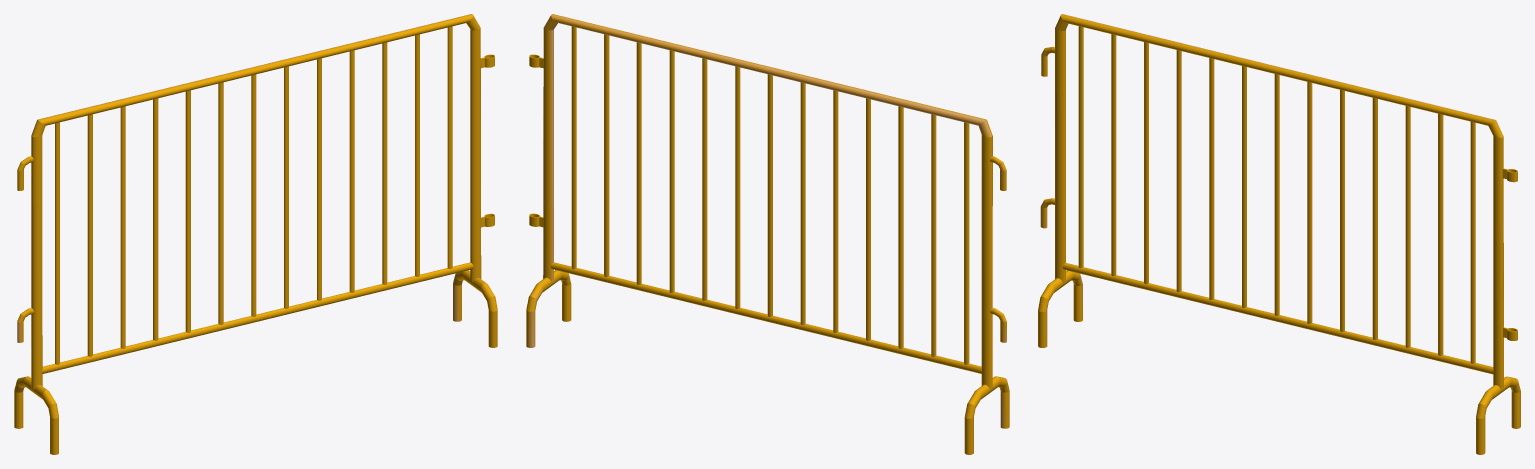
File: barrier1.5x0.2x1m.dae
3 views of the same model, side by side, from view 1: azimuth 30°, elevation 25°; view 2: azimuth 150°, elevation 25°; view 3: azimuth 330°, elevation 25° (orthographic).
Parts seen in each view (by area): view 1: barrier1.5x0.2x1m; view 2: barrier1.5x0.2x1m; view 3: barrier1.5x0.2x1m.
Part boxes in pixels (bbox=[...]): barrier1.5x0.2x1m: bbox=[14, 14, 497, 454]; barrier1.5x0.2x1m: bbox=[526, 14, 1009, 454]; barrier1.5x0.2x1m: bbox=[1038, 14, 1520, 454].
Size of the model in its own units: 1.52 by 0.2227 by 0.9744.
